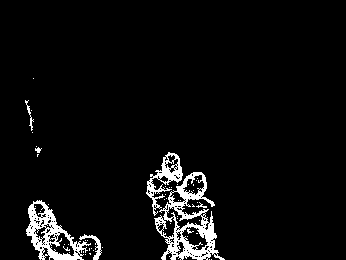person: (151, 149, 183, 251)
